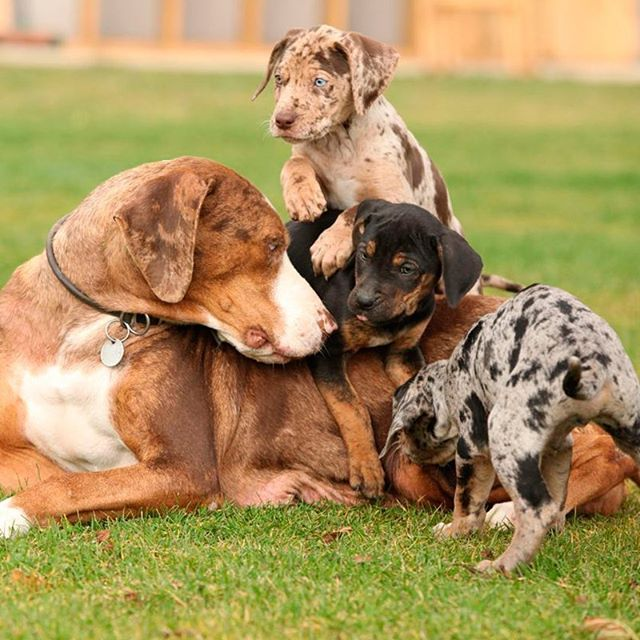dog: (1, 144, 640, 538), (371, 273, 640, 587), (259, 189, 479, 502), (246, 19, 492, 293)
